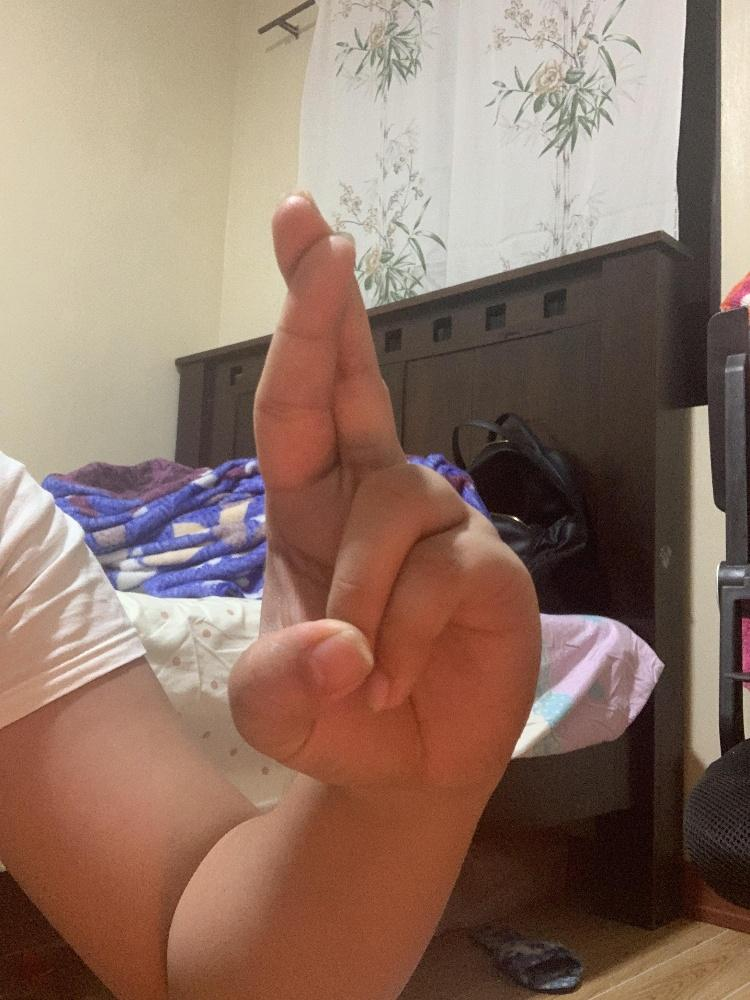r: (224, 188, 543, 789)
